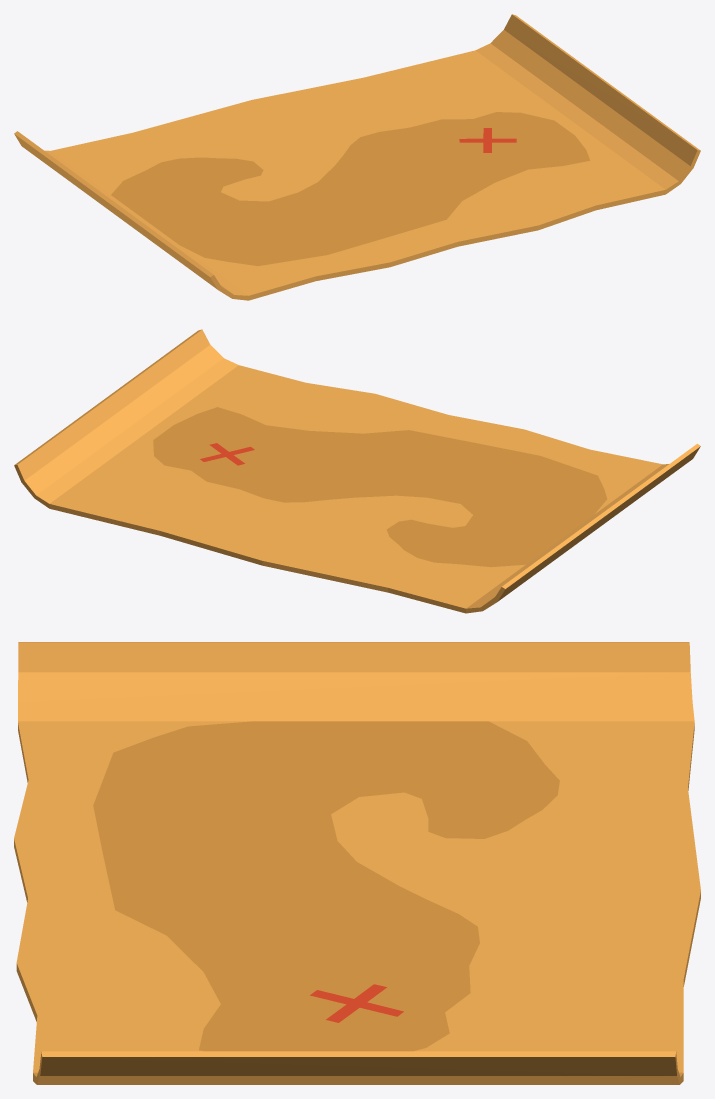
Rendered from map.fbx.
3 views of the same model, one above another, from view 1: azimuth 30°, elevation 25°; view 2: azimuth 150°, elevation 25°; view 3: azimuth 270°, elevation 25° (orthographic). The views are drawn at different scales.
Parts seen in each view (by area): view 1: map; view 2: map; view 3: map.
Part boxes in pixels (x1,y1,x2,y2): map: (14, 14, 700, 300); map: (14, 329, 700, 613); map: (14, 642, 700, 1084).
Size of the model in its own units: 0.9212 by 0.0605 by 0.6445.
